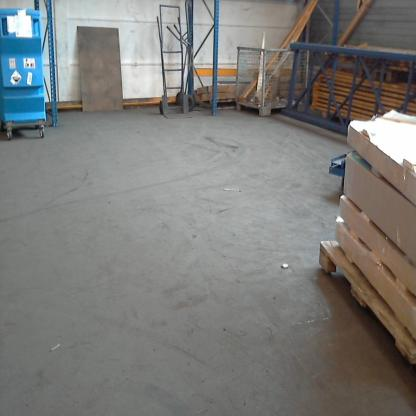pallet: (315, 231, 415, 374)
stillage: (218, 32, 312, 119)
